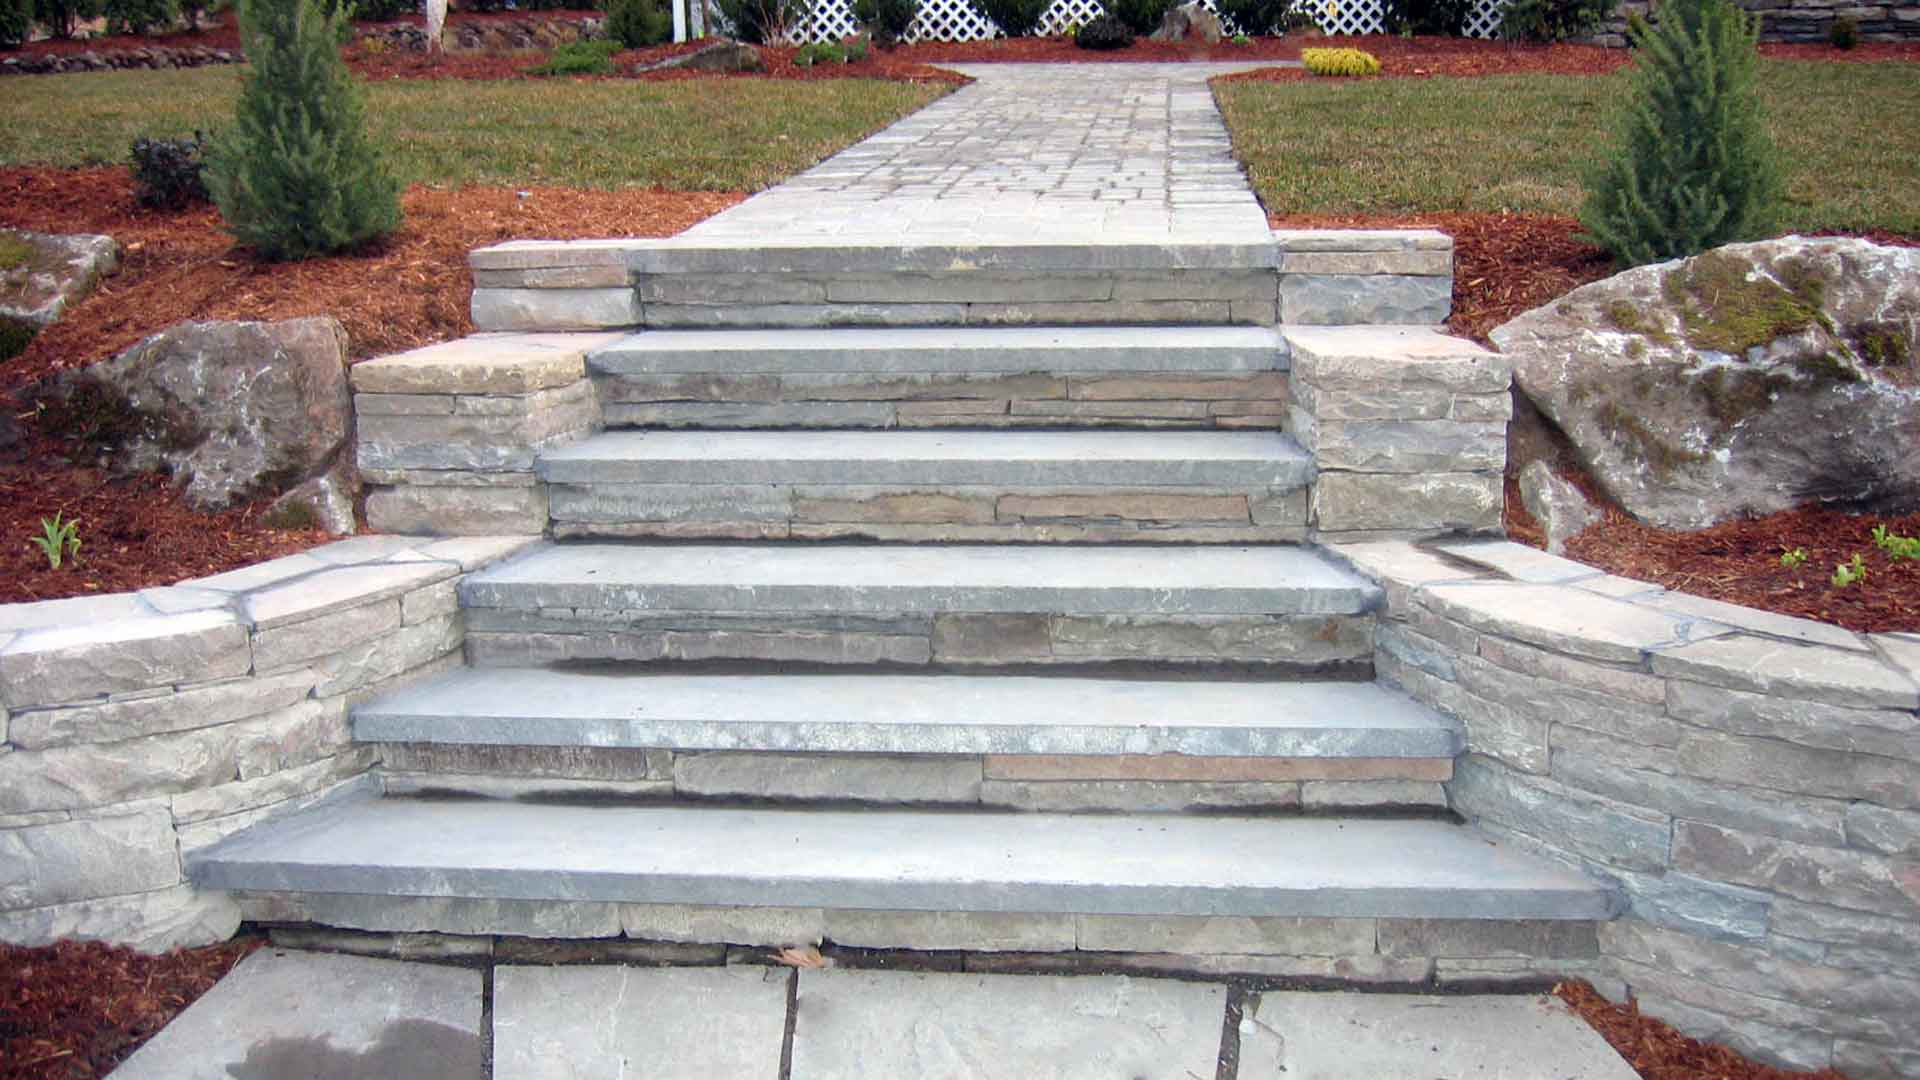upstairs: (661, 236, 1261, 1018)
